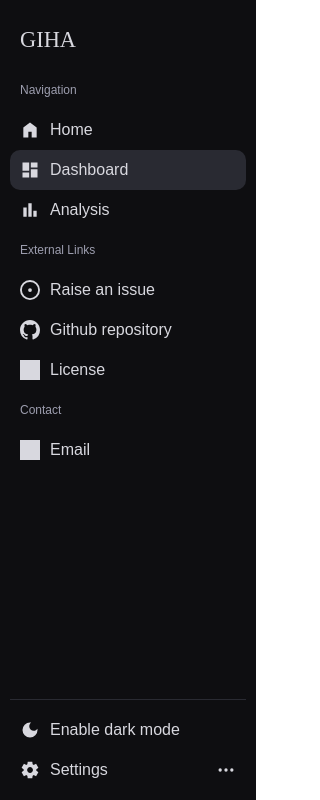
Test case: Sidebar Component › should open a popout with a signout button when the profile menu button is clicked
# Click the profile menu button
Click the element with test id "profile-menu" at {"x": 79, "y": 770}, box [20,760,236,780]
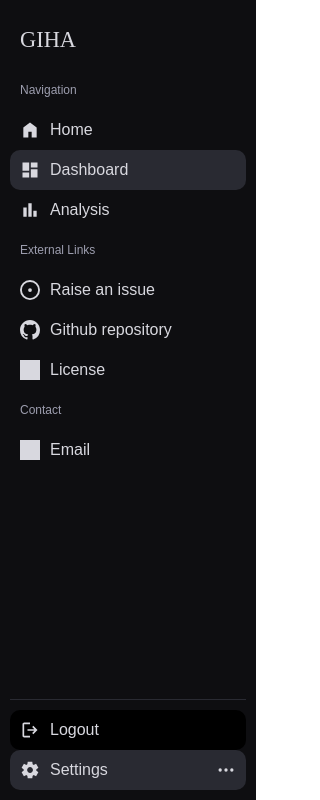
expect the list item with test id "profile-menu-signout" is shown: met, box [20,720,99,740]
